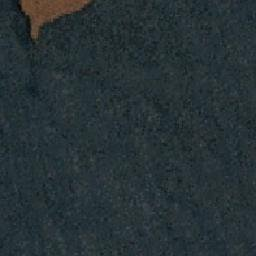debris: (18, 1, 90, 37)
